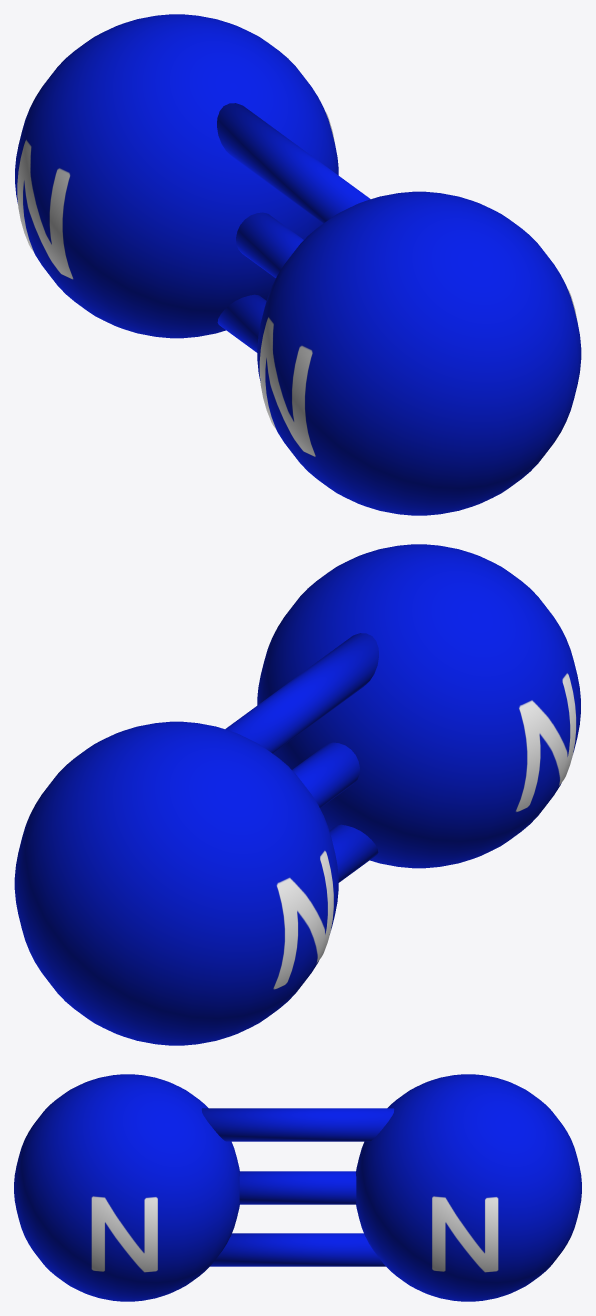
File: nitrogenio.glb
The picture shows the model from 3 angles, top to bottom: view 1: azimuth 30°, elevation 25°; view 2: azimuth 150°, elevation 25°; view 3: azimuth 270°, elevation 25°; orthographic projection. The views are drawn at different scales.
Parts seen in each view (by area): view 1: Mol molde 2; view 2: Mol molde 2; view 3: Mol molde 2.
Part boxes in pixels (x1,y1,x2,y2): Mol molde 2: [15, 14, 581, 515]; Mol molde 2: [14, 544, 580, 1045]; Mol molde 2: [14, 1074, 581, 1301].
Size of the model in its own units: 0.3054 by 0.3054 by 0.7619.
Materials: 2 (2 with a texture image).
